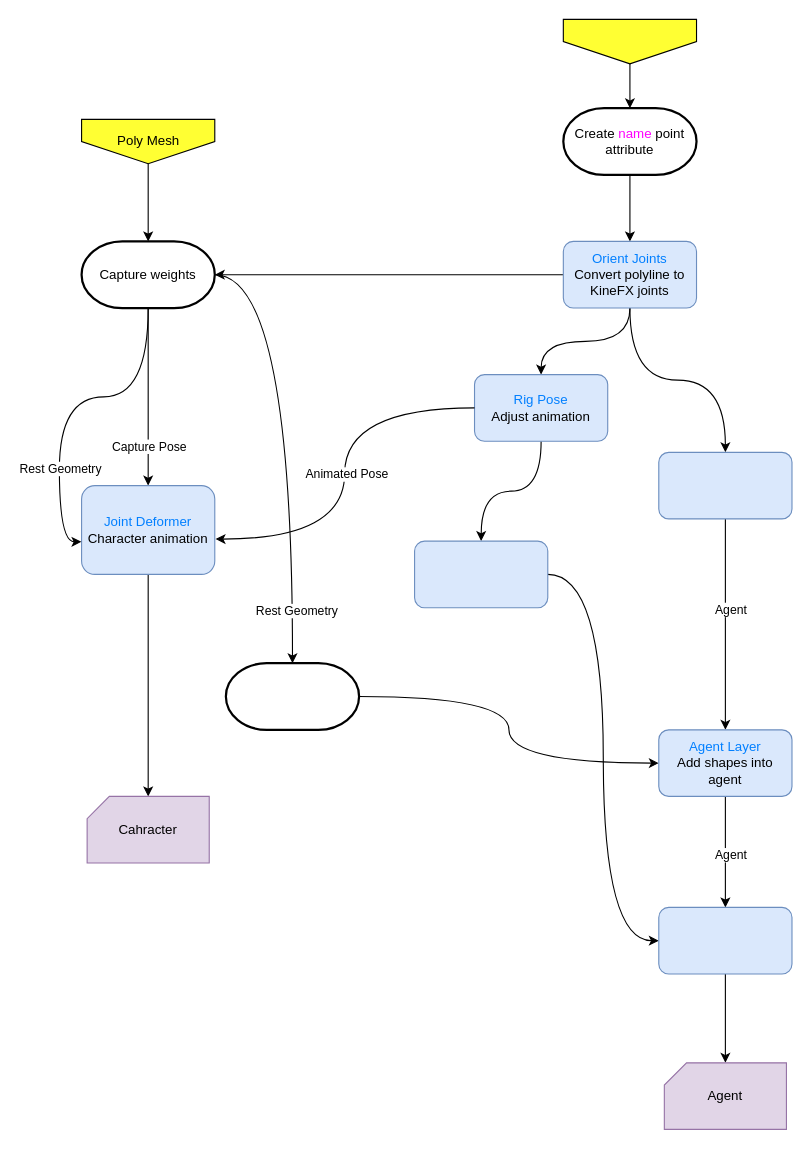
This 811x1149 diagram has some shape labels left out. The centre of each missing label's shape, as x and y in pixels:
"Agent Clip Add clip into agent" belongs at pixel 725 940.
"Agent From Rig Create crowd agent" belongs at pixel 725 485.
"Create name primtive attribute" belongs at pixel 292 696.
"Motion Clip Convert animated pose to motion clip" belongs at pixel 480 574.
"PolyLine" belongs at pixel 629 41.
